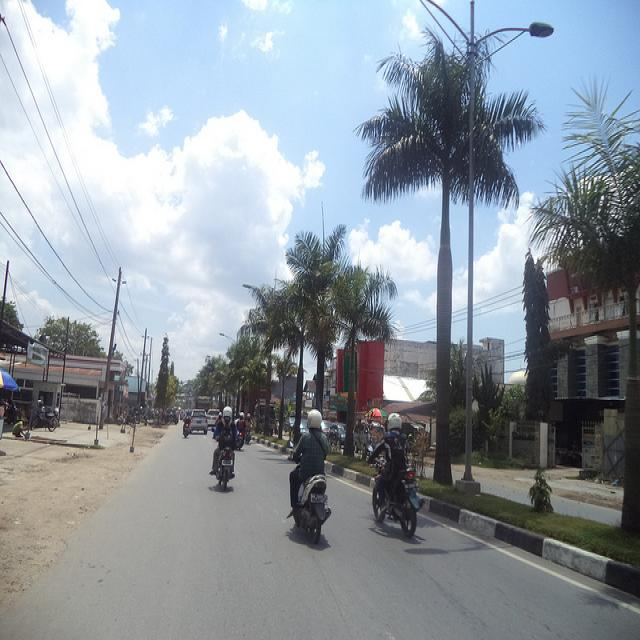motor: (371, 462, 429, 537), (297, 474, 332, 544), (215, 446, 236, 491), (183, 419, 192, 438), (236, 431, 245, 450), (217, 420, 225, 441), (245, 427, 251, 444)
